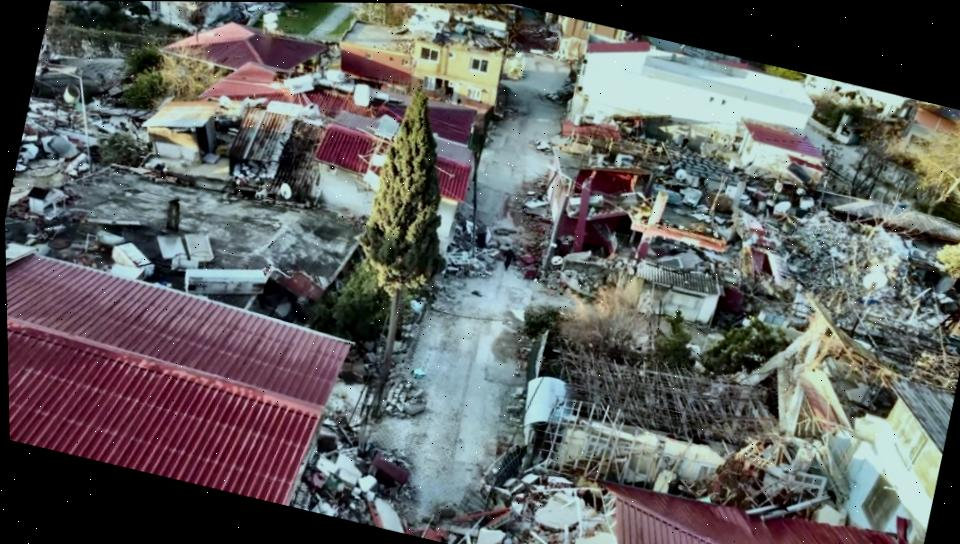kapali: (343, 357, 526, 544), (418, 146, 549, 359)
